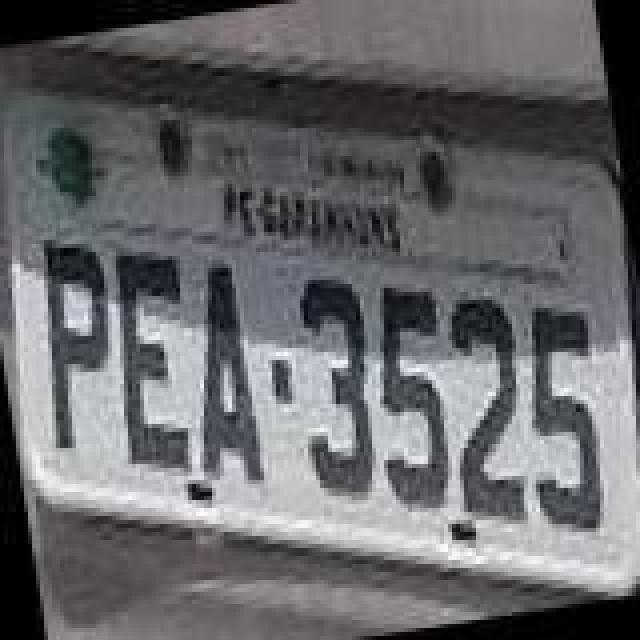2: (432, 294, 544, 538)
3: (280, 270, 392, 506)
5: (350, 278, 466, 522), (506, 294, 622, 538)
A: (172, 260, 268, 492)
E: (94, 242, 210, 478)
P: (20, 232, 132, 456)
